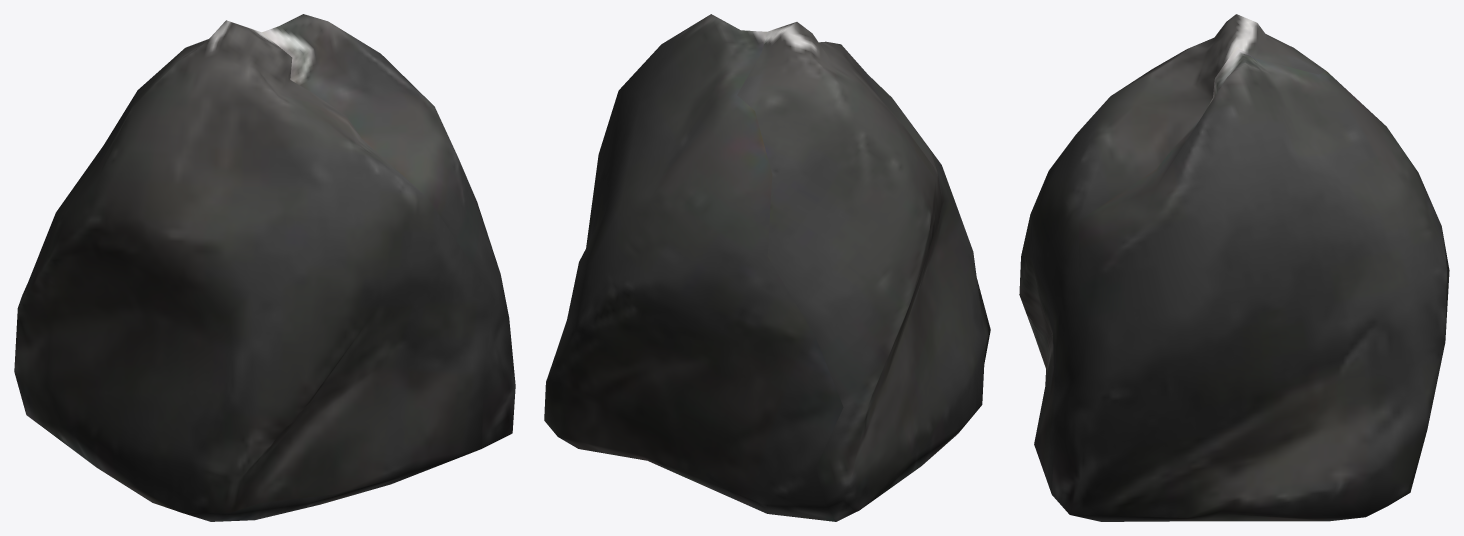
The model's file is trash_bag.glb.
The picture shows the model from 3 angles, left to right: view 1: azimuth 30°, elevation 25°; view 2: azimuth 150°, elevation 25°; view 3: azimuth 270°, elevation 25°; orthographic projection. The views are drawn at different scales.
Parts seen in each view (by area): view 1: trash_bag; view 2: trash_bag; view 3: trash_bag.
Boxes of the visible parts, x1,y1,x2,y2 form: trash_bag: (14,14,515,521); trash_bag: (544,14,990,521); trash_bag: (1019,14,1449,521).
Bounding box in the file's own units: 0.6518 × 0.7189 × 0.6579.
1 material, 1 textured.
